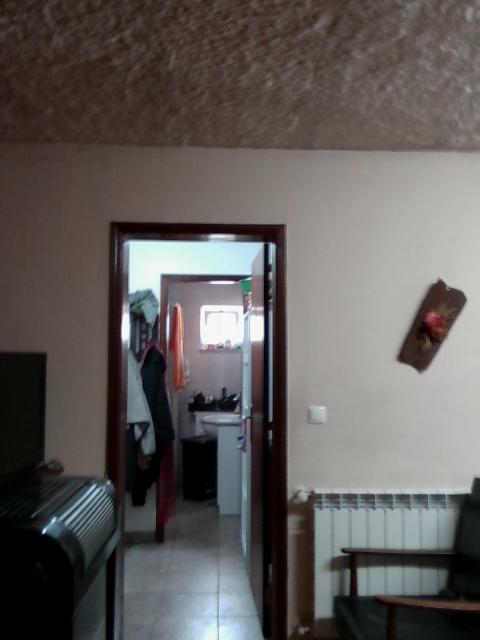open_door: (104, 219, 289, 639)
